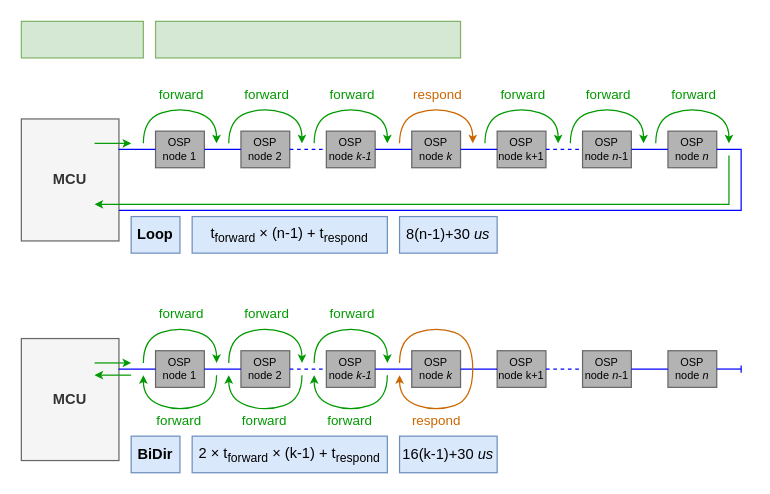
The diagram is 770 pixels wide and 494 high, and some of its shapes have lost their labels. Here are the shapes that lost their labels. From the top down, the centre of each, then its label:
At point (81, 39): "t forward = 8.0 us".
At point (307, 39): "t respond = 14 .. 30 .. 1400 us (min,typ,max)".
